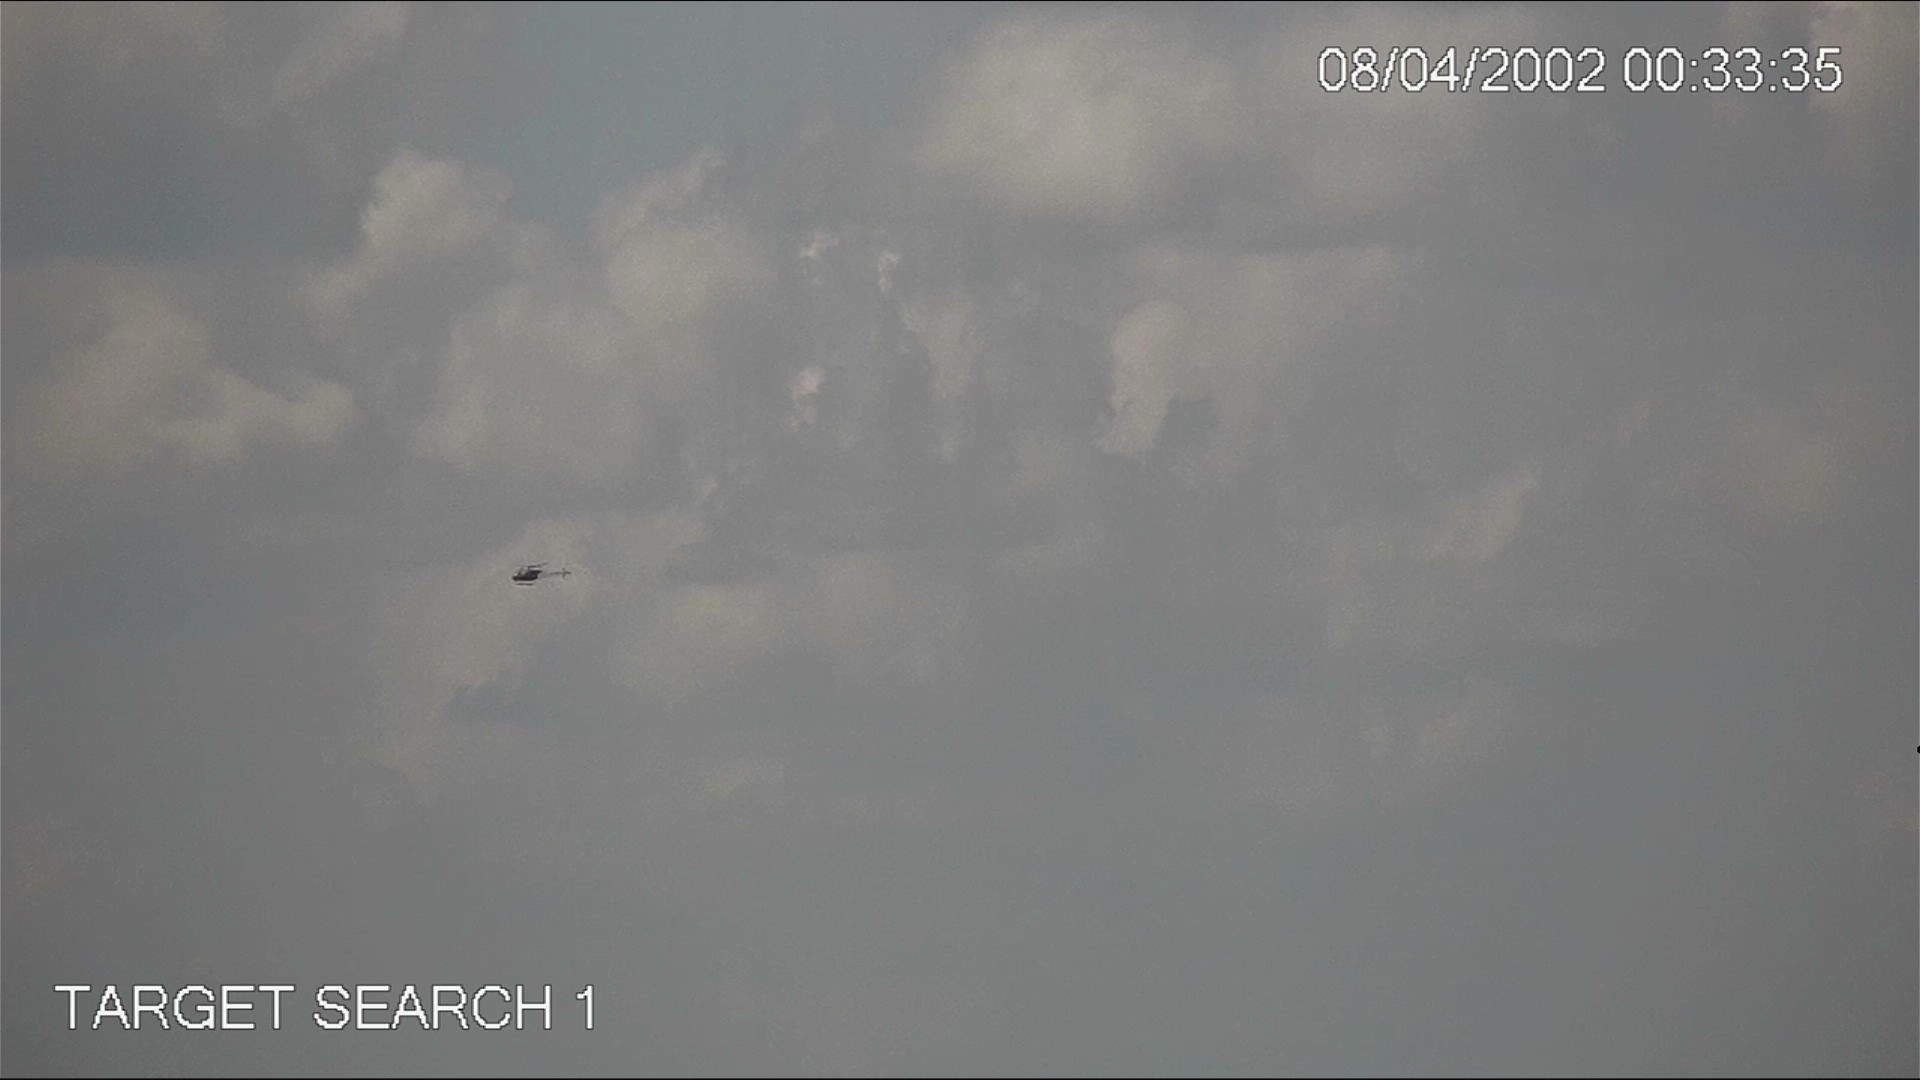SU_30: (498, 558, 578, 592)
